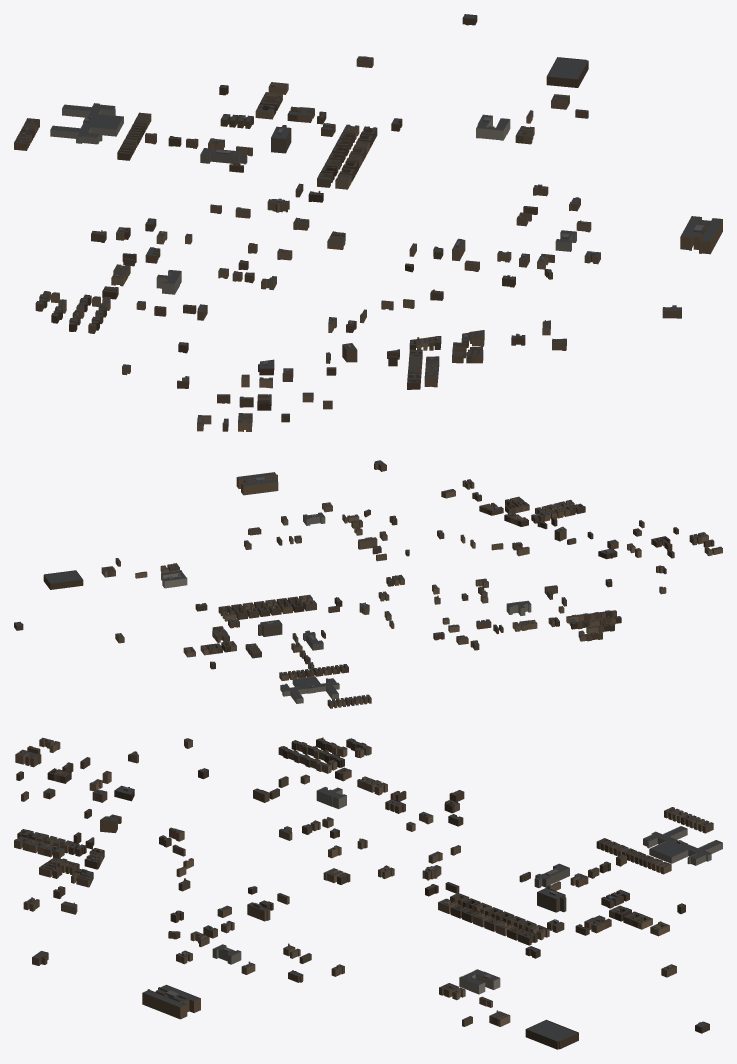
Rendered from manhattan_+03_-01.glb.
3 renders of one model, top to bottom at view 1: azimuth 30°, elevation 25°; view 2: azimuth 150°, elevation 25°; view 3: azimuth 270°, elevation 25°, orthographic. The views are drawn at different scales.
Parts seen in each view (by area): view 1: BLD_lowrise_+03_-01; view 2: BLD_lowrise_+03_-01; view 3: BLD_lowrise_+03_-01, BLD_midrise_+03_-01.
Part boxes in pixels (x1,y1,x2,y2): BLD_lowrise_+03_-01: [14, 14, 722, 431]; BLD_lowrise_+03_-01: [14, 460, 722, 708]; BLD_lowrise_+03_-01: [14, 737, 722, 1049]; BLD_midrise_+03_-01: [537, 887, 566, 912].
Bounding box in the file's own units: 1463 × 32.81 × 1434.
